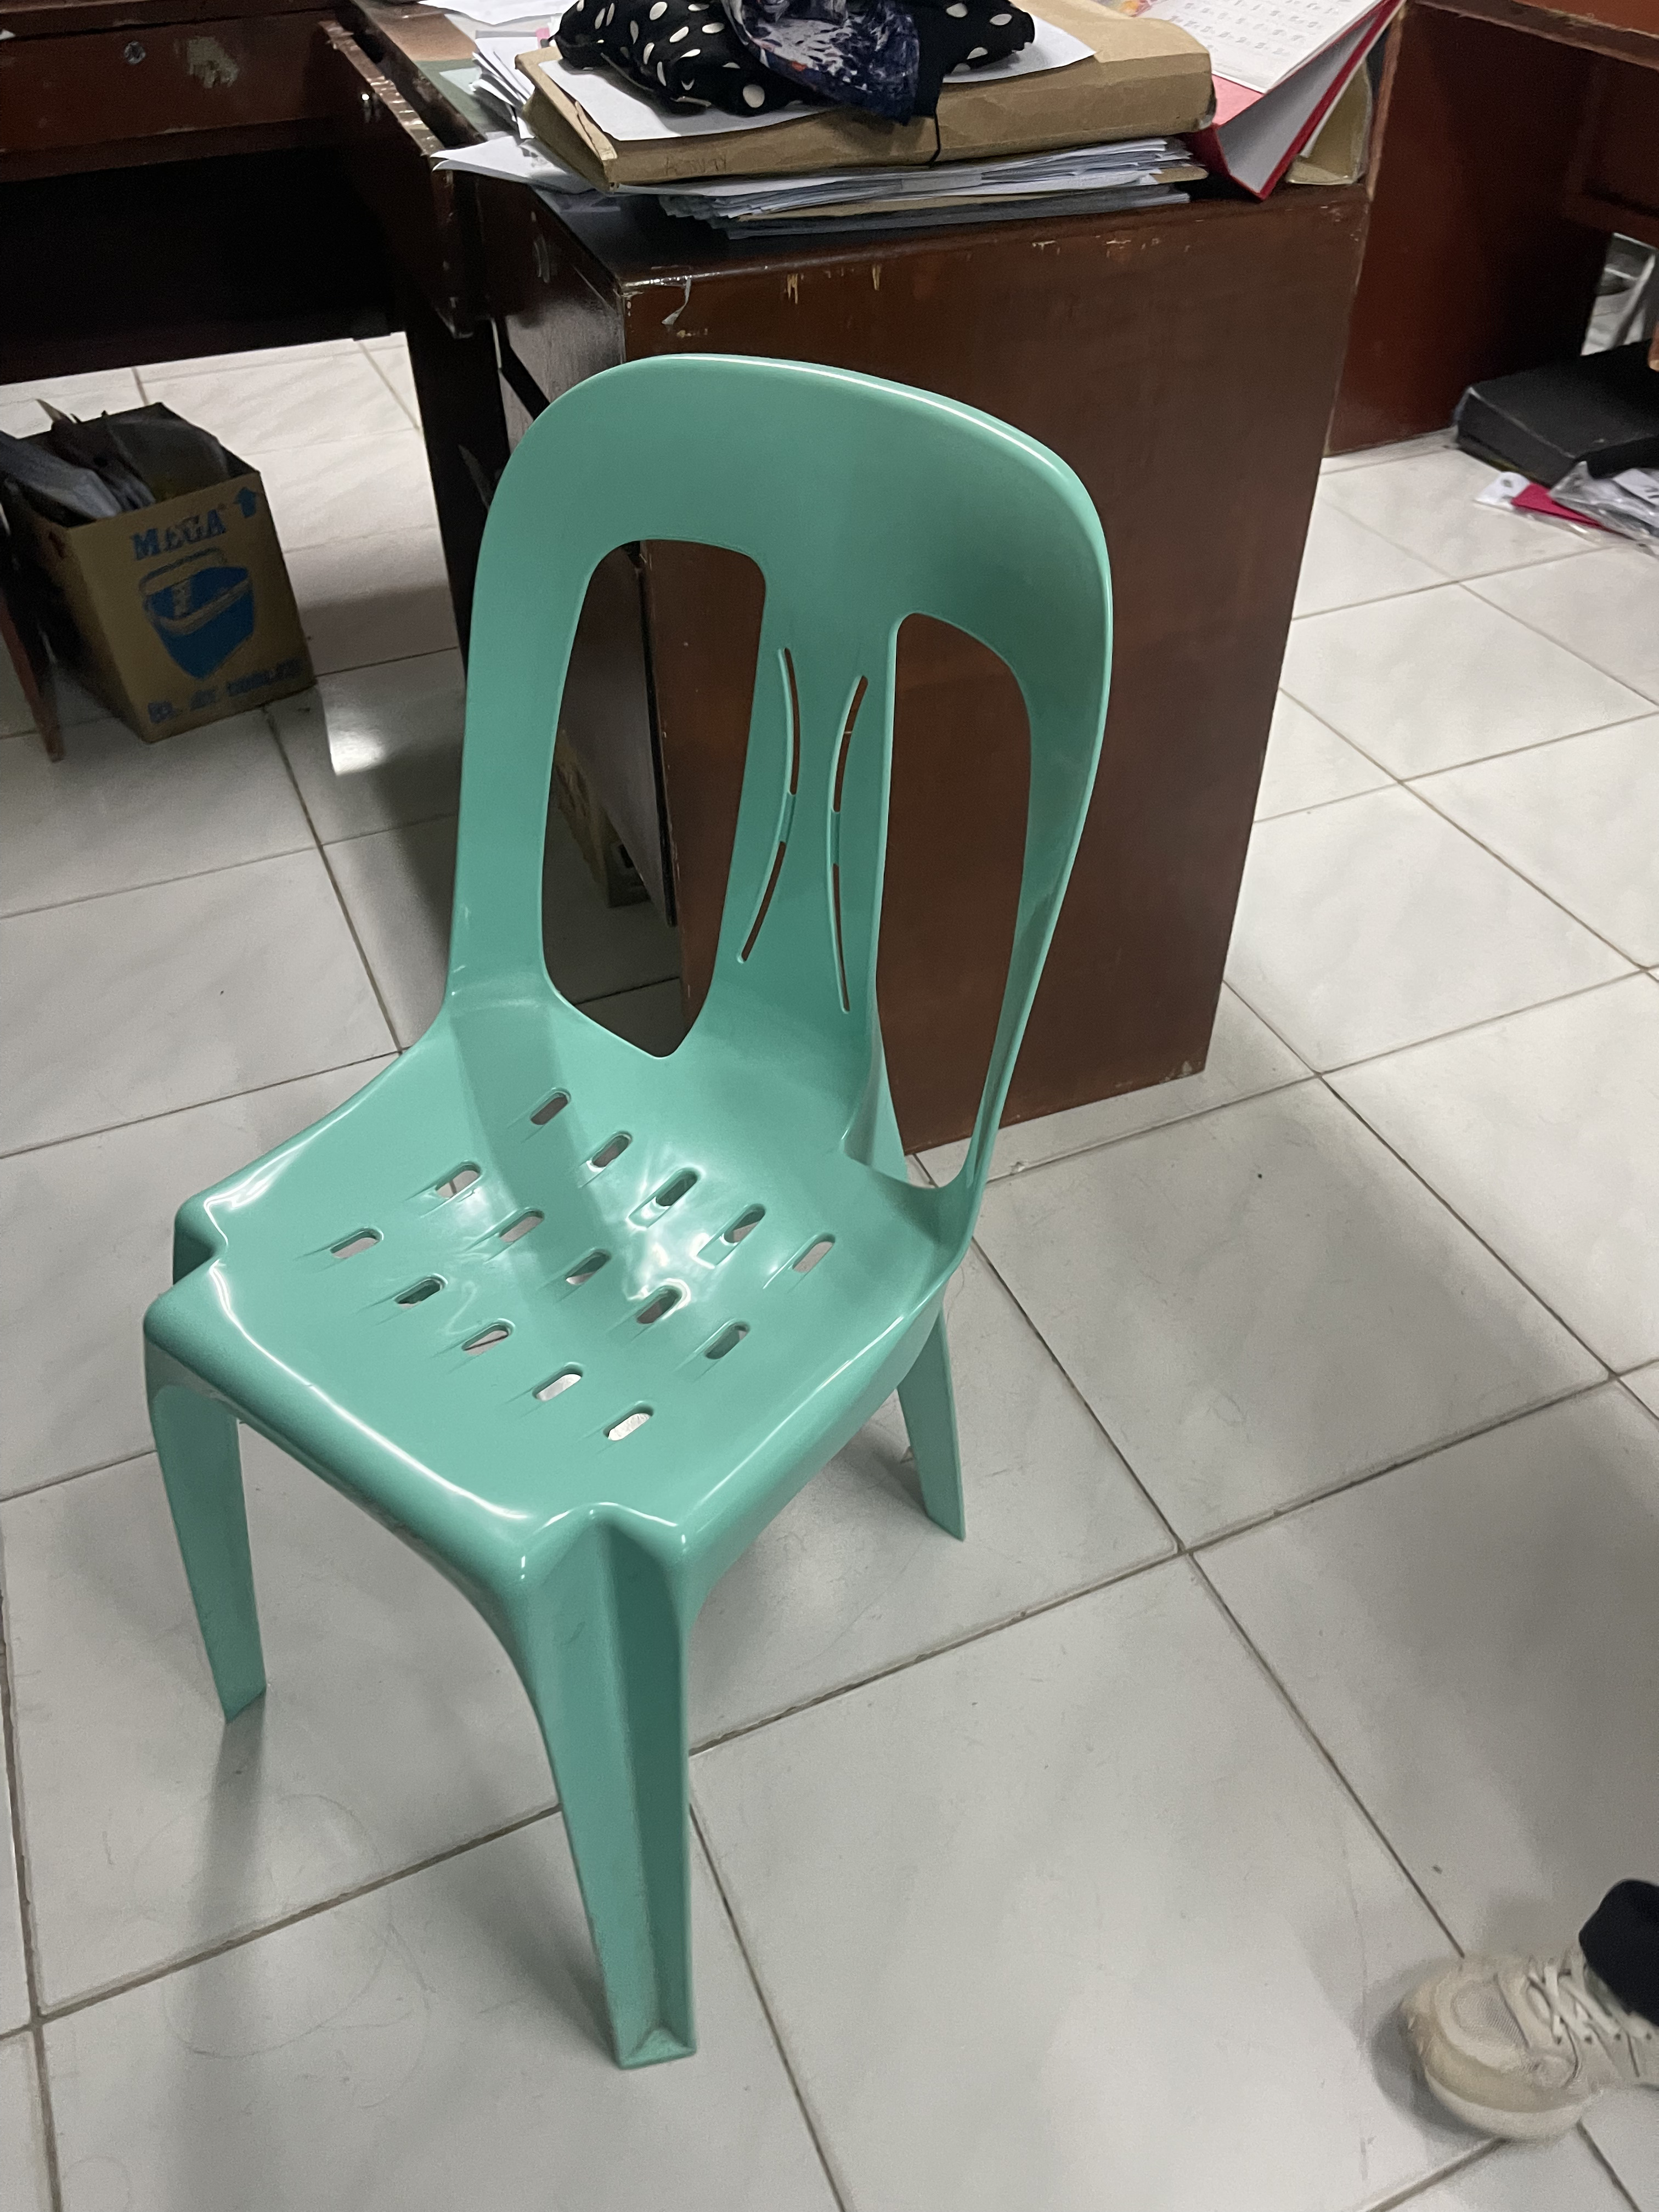chair2: (138, 347, 1136, 2066)
